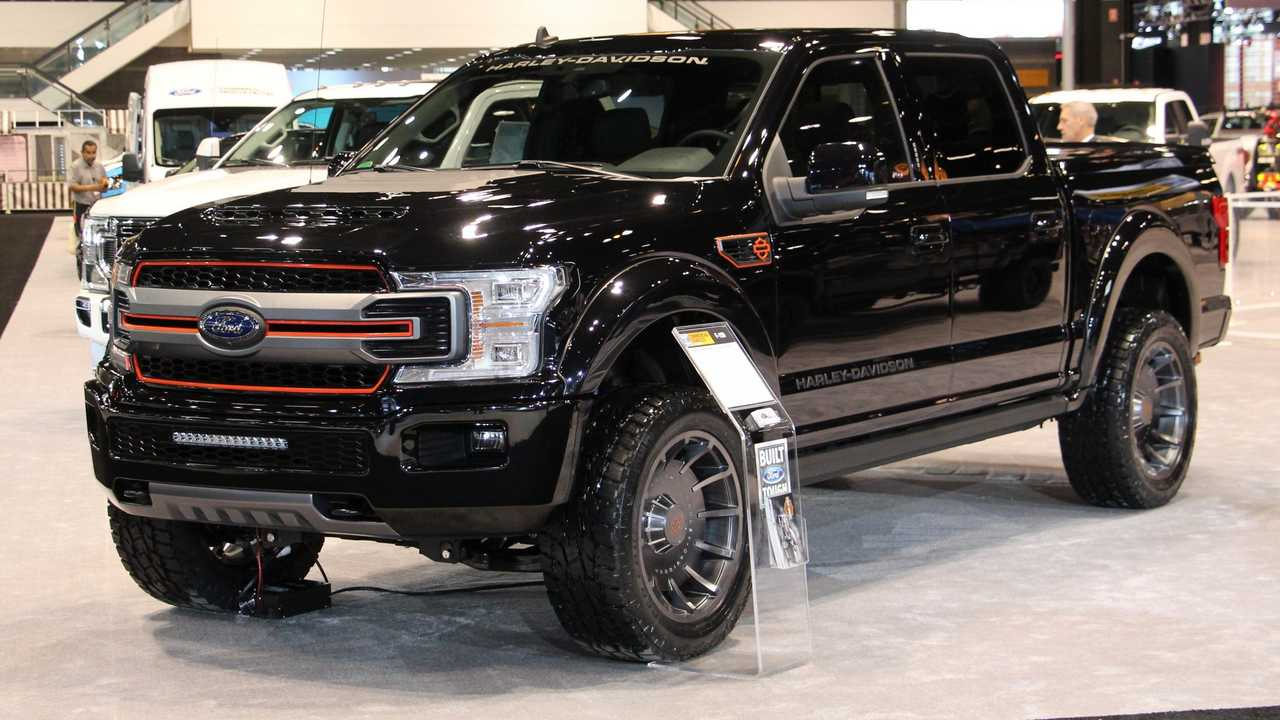car: (87, 36, 1235, 664)
